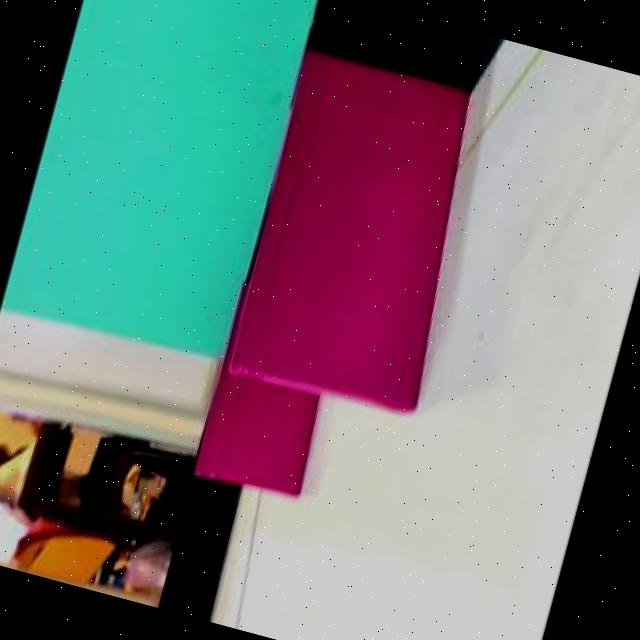xparking: (233, 52, 499, 410), (195, 369, 328, 496)
